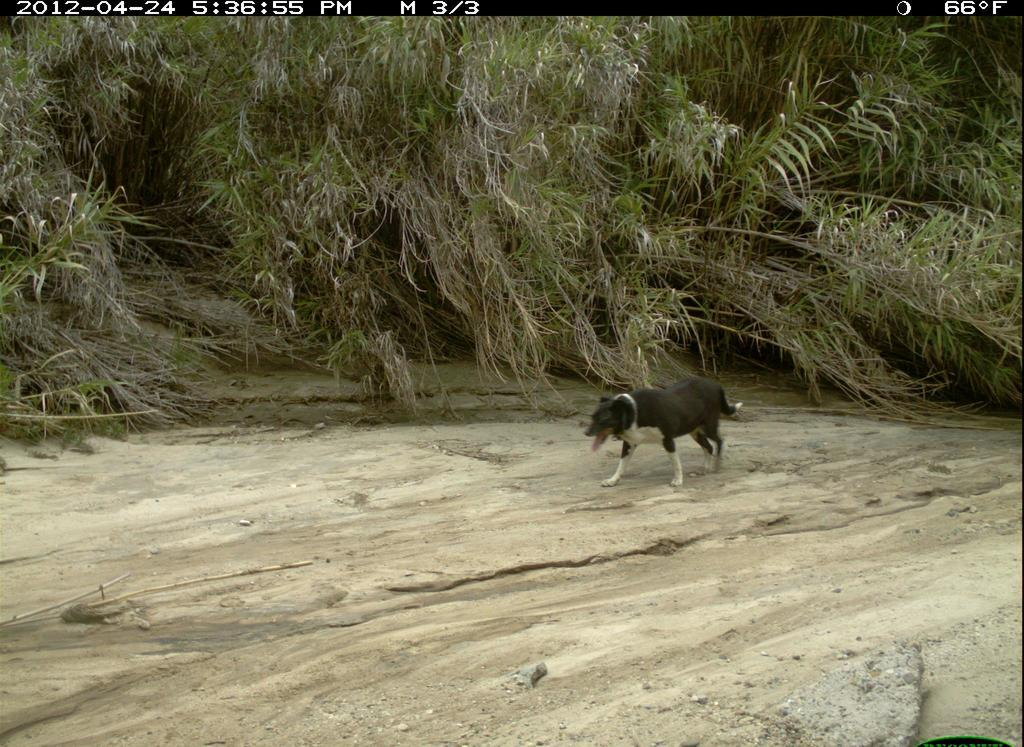dog: (575, 376, 759, 496)
